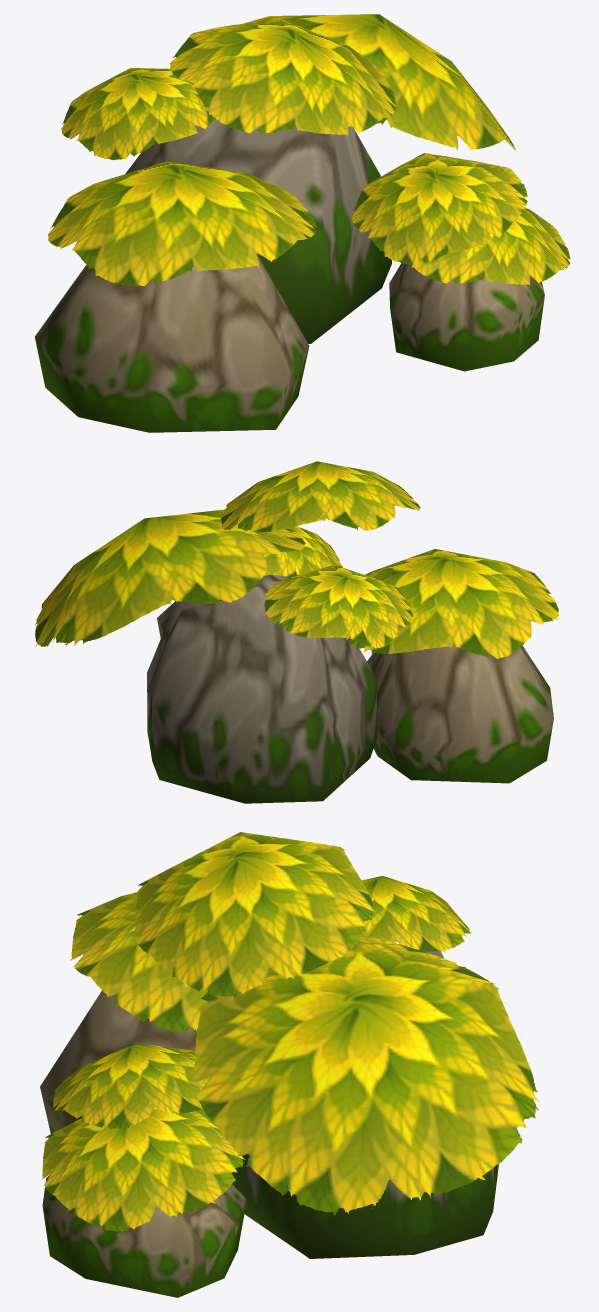
Rendered from RockGroup_05.FBX.
3 renders of one model, top to bottom at view 1: azimuth 30°, elevation 25°; view 2: azimuth 150°, elevation 25°; view 3: azimuth 270°, elevation 25°, orthographic. The views are drawn at different scales.
Parts seen in each view (by area): view 1: RockGroup_05; view 2: RockGroup_05; view 3: RockGroup_05.
Boxes of the visible parts, x1,y1,x2,y2 form: RockGroup_05: [35, 14, 570, 432]; RockGroup_05: [35, 461, 558, 803]; RockGroup_05: [40, 832, 539, 1297].
Size of the model in its own units: 1.43 by 0.7407 by 1.12.
